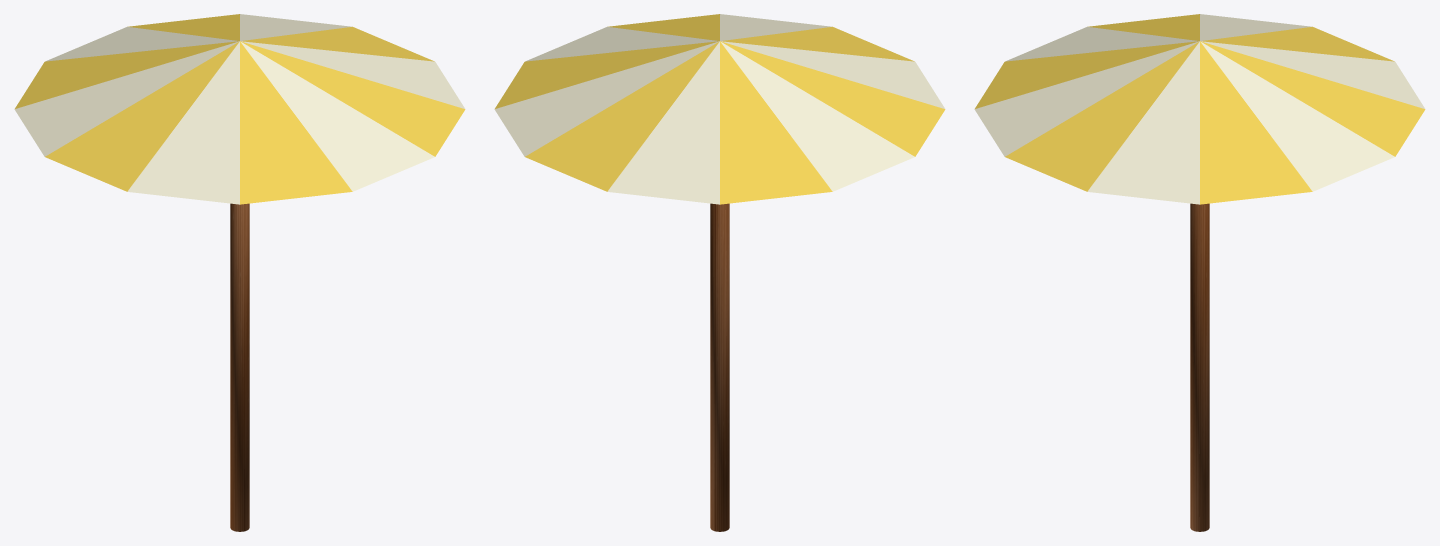
File: umbrella.glb
3 views of the same model, side by side, from view 1: azimuth 30°, elevation 25°; view 2: azimuth 150°, elevation 25°; view 3: azimuth 270°, elevation 25° (orthographic).
Visible parts, largest first — view 1: Umbrella panel.007, Umbrella panel.008, Umbrella panel.006, Umbrella panel.009, Umbrella panel.005, Umbrella panel.010, Umbrella pole, Umbrella panel.004, Umbrella panel.011, Umbrella panel, Umbrella panel.003, Umbrella panel.001 (+1 smaller); view 2: Umbrella panel.003, Umbrella panel.004, Umbrella panel.002, Umbrella panel.005, Umbrella panel.001, Umbrella panel.006, Umbrella pole, Umbrella panel, Umbrella panel.007, Umbrella panel.008, Umbrella panel.011, Umbrella panel.009 (+1 smaller); view 3: Umbrella panel, Umbrella panel.011, Umbrella panel.001, Umbrella panel.010, Umbrella panel.002, Umbrella panel.009, Umbrella pole, Umbrella panel.003, Umbrella panel.008, Umbrella panel.004, Umbrella panel.007, Umbrella panel.005 (+1 smaller).
Part boxes in pixels (bbox=[...]): Umbrella panel.007: bbox=[127, 41, 239, 204]; Umbrella panel.008: bbox=[240, 41, 352, 204]; Umbrella panel.006: bbox=[45, 41, 239, 191]; Umbrella panel.009: bbox=[240, 41, 434, 191]; Umbrella panel.005: bbox=[14, 41, 238, 156]; Umbrella panel.010: bbox=[241, 41, 465, 156]; Umbrella pole: bbox=[230, 203, 249, 531]; Umbrella panel.004: bbox=[15, 41, 238, 108]; Umbrella panel.011: bbox=[241, 41, 464, 108]; Umbrella panel: bbox=[240, 26, 434, 61]; Umbrella panel.003: bbox=[45, 26, 239, 61]; Umbrella panel.001: bbox=[240, 14, 351, 40]; Umbrella panel.003: bbox=[607, 41, 719, 204]; Umbrella panel.004: bbox=[720, 41, 832, 204]; Umbrella panel.002: bbox=[525, 41, 719, 191]; Umbrella panel.005: bbox=[720, 41, 914, 191]; Umbrella panel.001: bbox=[494, 41, 718, 156]; Umbrella panel.006: bbox=[721, 41, 945, 156]; Umbrella pole: bbox=[710, 203, 729, 531]; Umbrella panel: bbox=[495, 41, 718, 108]; Umbrella panel.007: bbox=[721, 41, 944, 108]; Umbrella panel.008: bbox=[720, 26, 914, 61]; Umbrella panel.011: bbox=[525, 26, 719, 61]; Umbrella panel.009: bbox=[720, 14, 831, 40]; Umbrella panel: bbox=[1200, 41, 1312, 204]; Umbrella panel.011: bbox=[1087, 41, 1199, 204]; Umbrella panel.001: bbox=[1200, 41, 1394, 191]; Umbrella panel.010: bbox=[1005, 41, 1199, 191]; Umbrella panel.002: bbox=[1201, 41, 1425, 156]; Umbrella panel.009: bbox=[974, 41, 1198, 156]; Umbrella pole: bbox=[1190, 203, 1209, 531]; Umbrella panel.003: bbox=[1201, 41, 1424, 108]; Umbrella panel.008: bbox=[975, 41, 1198, 108]; Umbrella panel.004: bbox=[1200, 26, 1394, 61]; Umbrella panel.007: bbox=[1005, 26, 1199, 61]; Umbrella panel.005: bbox=[1200, 14, 1311, 40].
Bounding box in the file's own units: 2.1 × 2.5 × 2.1.
Materials: 3 (1 with a texture image).
